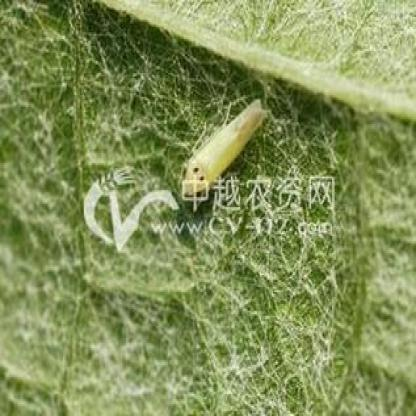Green-Leafhopper: (180, 98, 275, 200)
